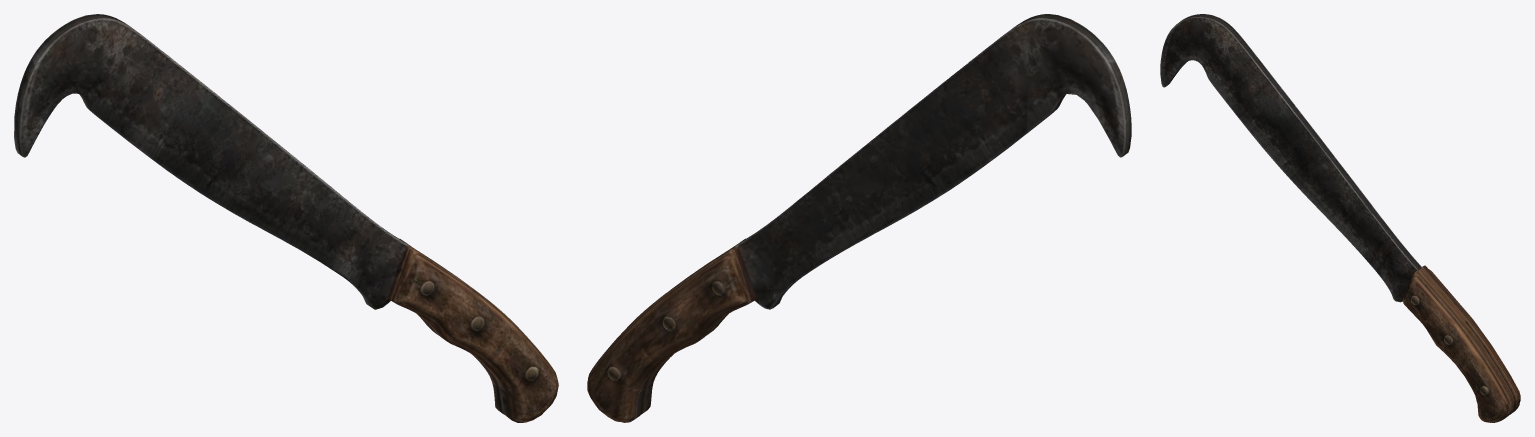
Rendered from machete-phone.glb.
3 views of the same model, side by side, from view 1: azimuth 30°, elevation 25°; view 2: azimuth 150°, elevation 25°; view 3: azimuth 330°, elevation 25° (orthographic). The views are drawn at different scales.
Parts seen in each view (by area): view 1: Model; view 2: Model; view 3: Model.
Part boxes in pixels (x1=…): Model: x1=14, y1=14, x2=558, y2=422; Model: x1=587, y1=14, x2=1131, y2=422; Model: x1=1160, y1=14, x2=1520, y2=422.
Bounding box in the file's own units: 1.9 × 1.72 × 0.1814.
1 material, 1 textured.
